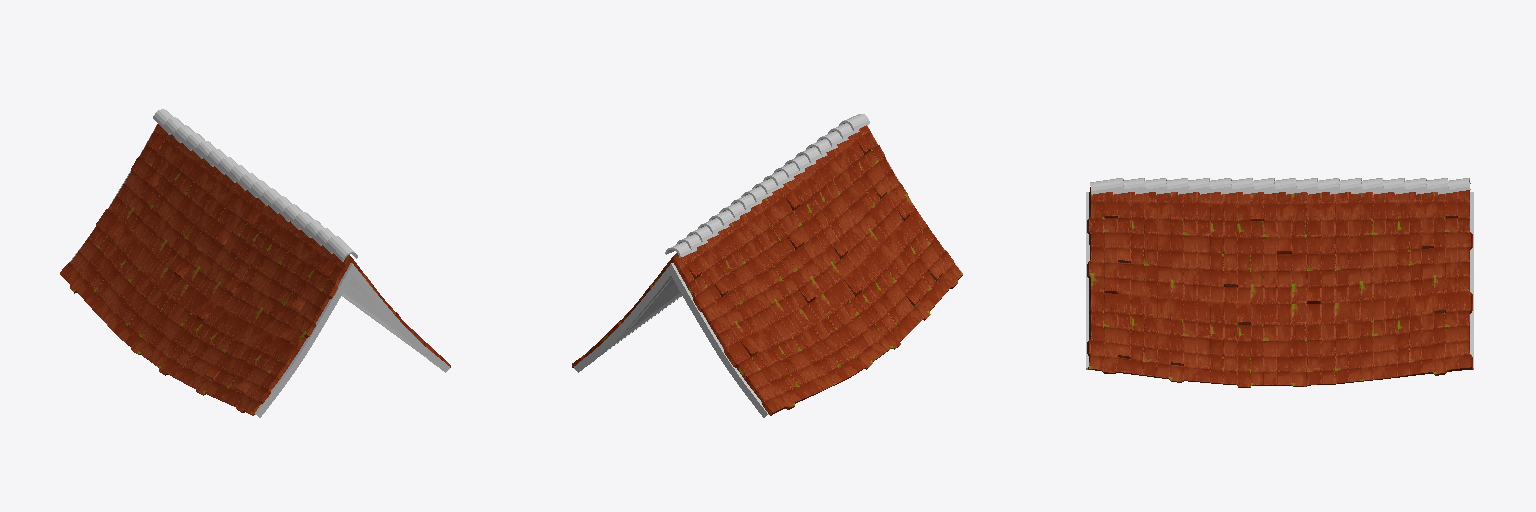
3 renders of one model, left to right at view 1: azimuth 30°, elevation 25°; view 2: azimuth 150°, elevation 25°; view 3: azimuth 270°, elevation 25°, orthographic.
Parts seen in each view (by area): view 1: Roof_FlatTiles_6x12; view 2: Roof_FlatTiles_6x12; view 3: Roof_FlatTiles_6x12.
Part boxes in pixels (x1,y1,x2,y2): Roof_FlatTiles_6x12: (60,109,450,417); Roof_FlatTiles_6x12: (572,114,962,417); Roof_FlatTiles_6x12: (1086,178,1473,387).
Bounding box in the file's own units: 9.13 × 6.02 × 13.66.
3 materials, 1 textured.